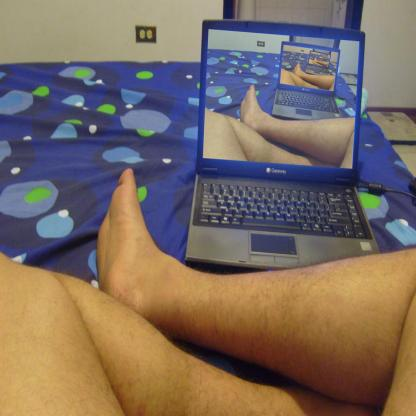board: (169, 64, 396, 273), (269, 41, 347, 125)
